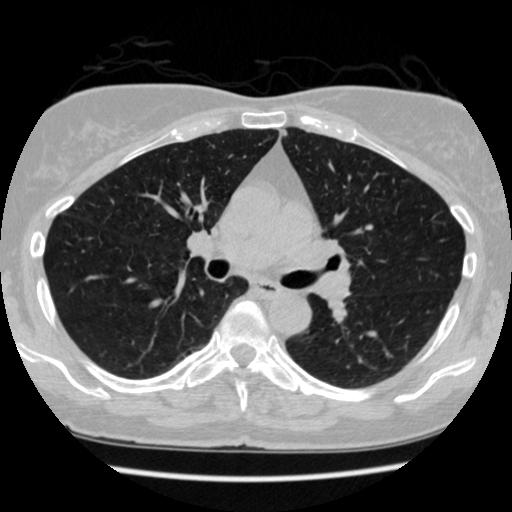nodule: (364, 222, 375, 233)
